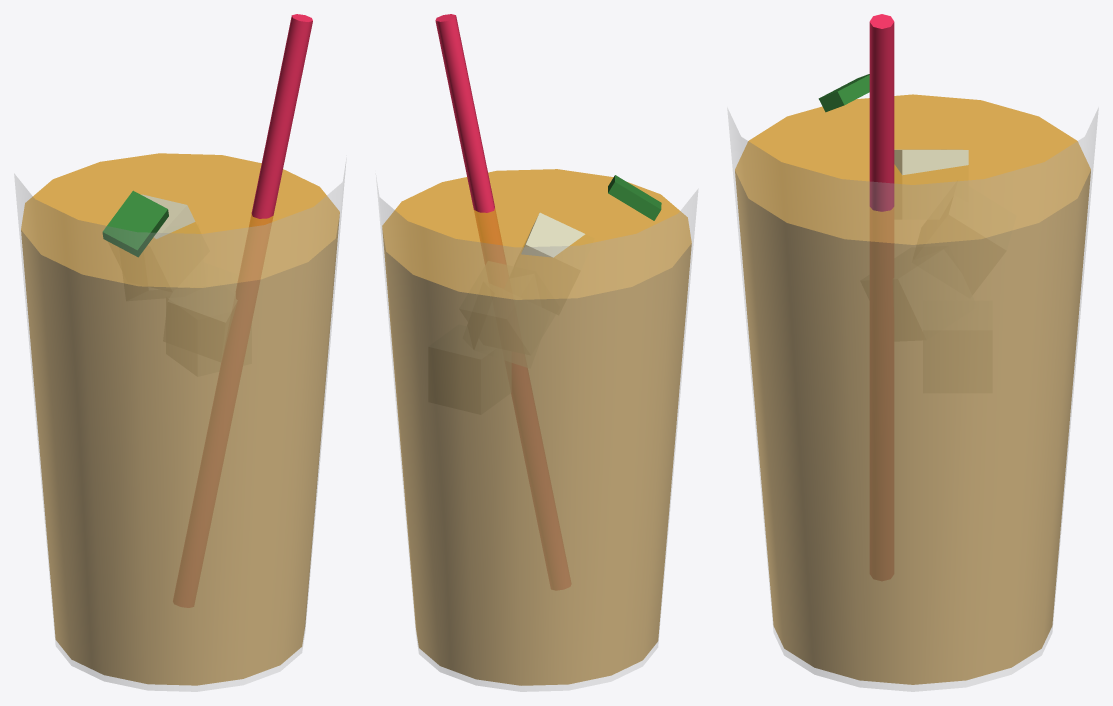
File: icedtea.glb
3 views of the same model, side by side, from view 1: azimuth 30°, elevation 25°; view 2: azimuth 150°, elevation 25°; view 3: azimuth 270°, elevation 25° (orthographic). The views are drawn at different scales.
Visible parts, largest first — view 1: icedtea; view 2: icedtea; view 3: icedtea.
Part boxes in pixels (x1,y1,x2,y2): icedtea: (14, 14, 346, 691); icedtea: (376, 14, 698, 691); icedtea: (727, 14, 1098, 691).
Size of the model in its own units: 0.48 by 0.9576 by 0.48.
